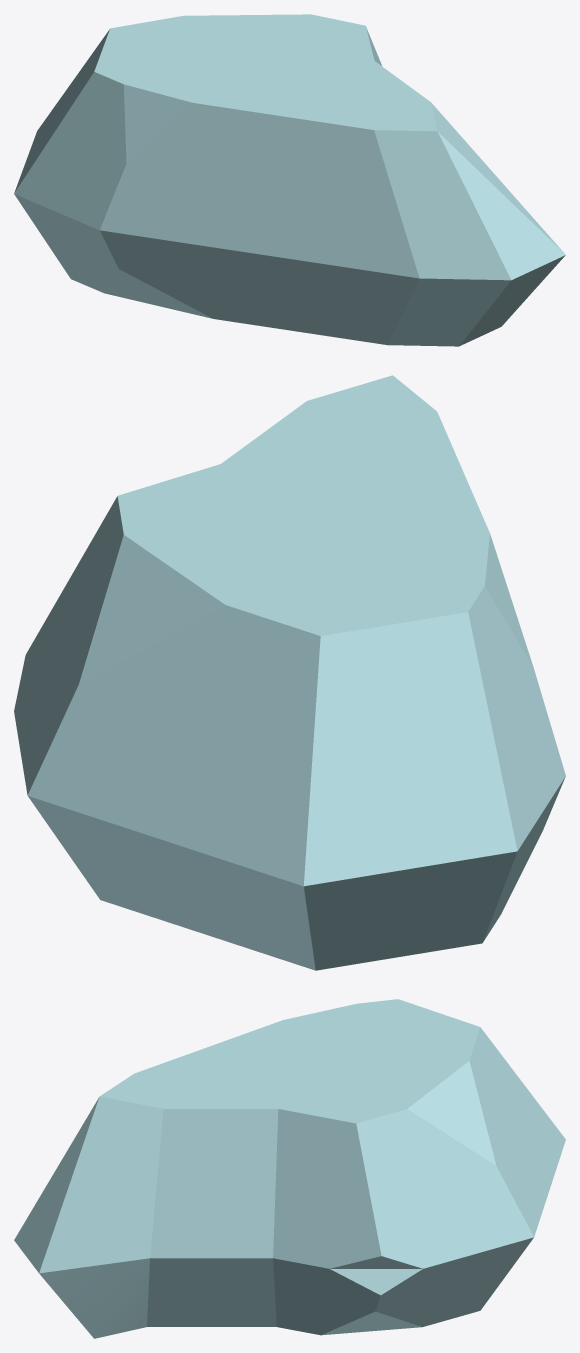
Rendered from Stone Large B.glb.
3 renders of one model, top to bottom at view 1: azimuth 30°, elevation 25°; view 2: azimuth 150°, elevation 25°; view 3: azimuth 270°, elevation 25°, orthographic. The views are drawn at different scales.
Parts seen in each view (by area): view 1: stone_largeB; view 2: stone_largeB; view 3: stone_largeB.
Part boxes in pixels (bbox=[...]): stone_largeB: bbox=[14, 14, 565, 346]; stone_largeB: bbox=[14, 375, 565, 970]; stone_largeB: bbox=[14, 999, 565, 1338].
Bounding box in the file's own units: 0.7667 × 0.4303 × 1.02.
